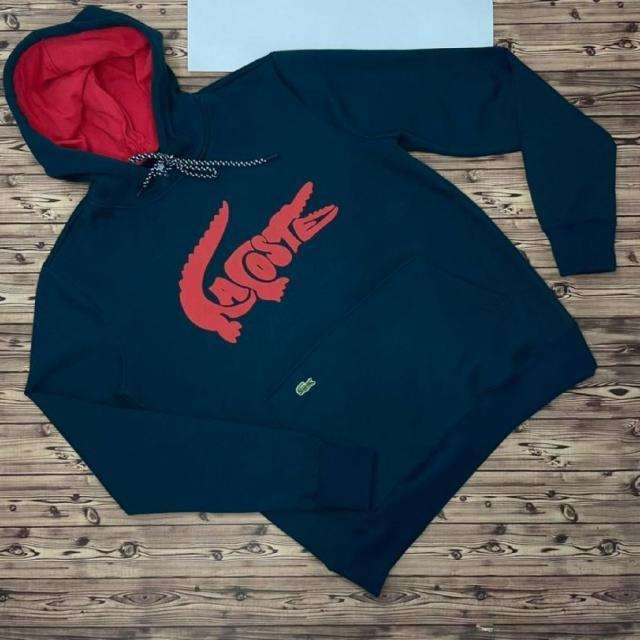sweater: (1, 5, 618, 597)
